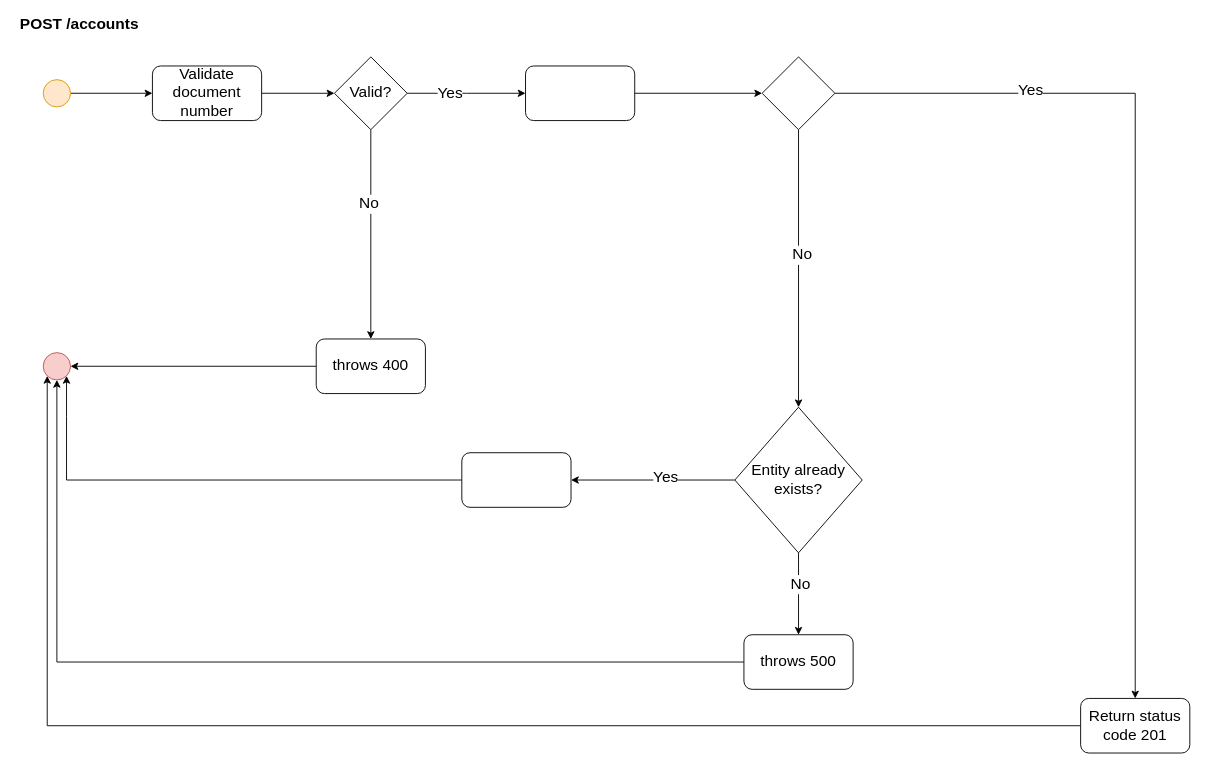
This 1206x769 diagram has some shape labels left out. The shapes that lost their labels are listed below. From the top down, each one's centre as x and y in pixels, then its label:
At point (580, 93): "Create account".
At point (798, 93): "Created?".
At point (516, 479): "throws 409".
